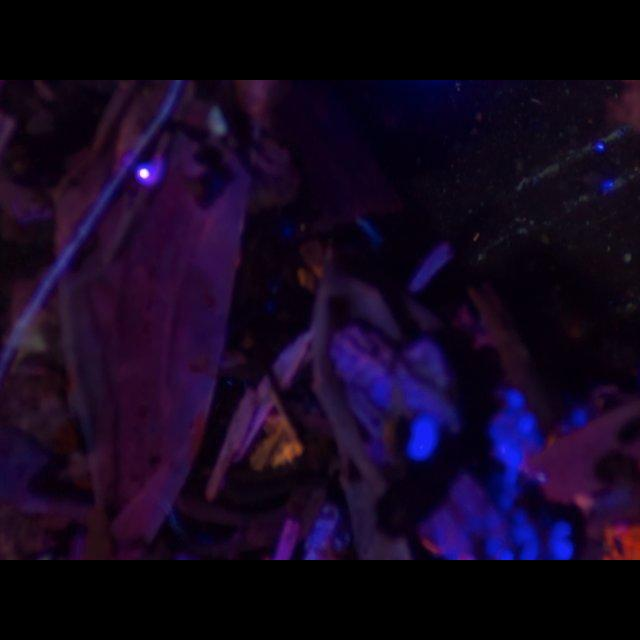microbeads: (620, 250, 634, 264)
